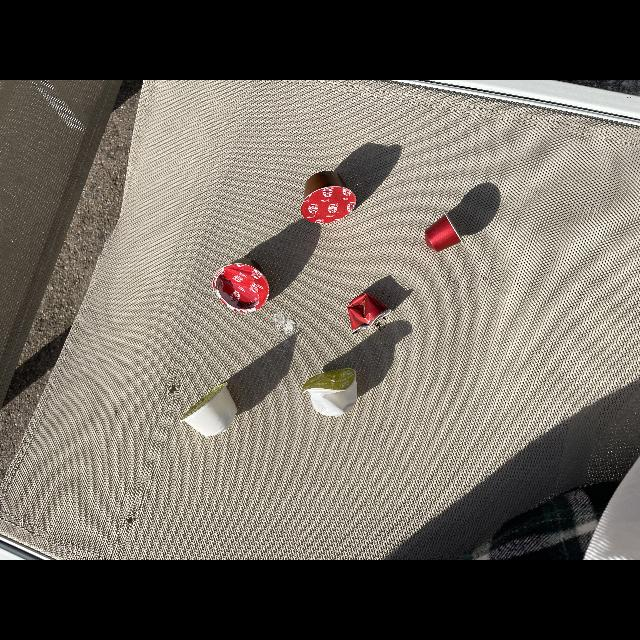damaged_capsule: (210, 255, 274, 315), (302, 368, 360, 418), (348, 290, 392, 338)
intact_capsule: (177, 381, 247, 441), (299, 167, 359, 226), (421, 210, 469, 256)
